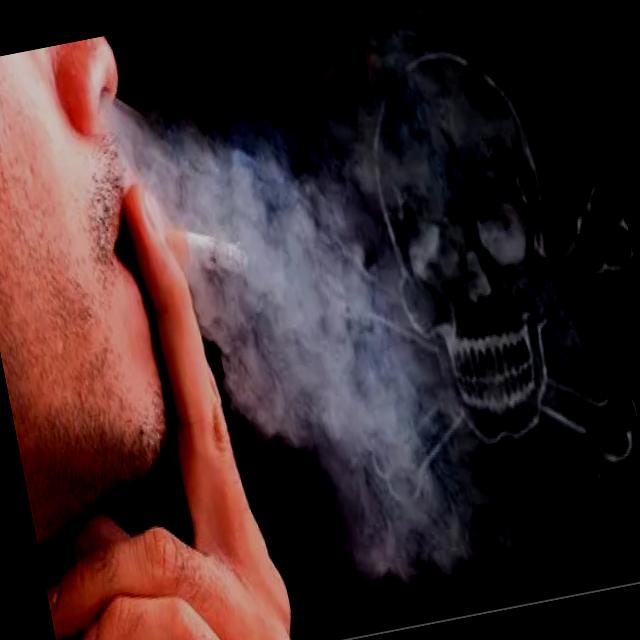cigarette: (166, 206, 273, 299)
